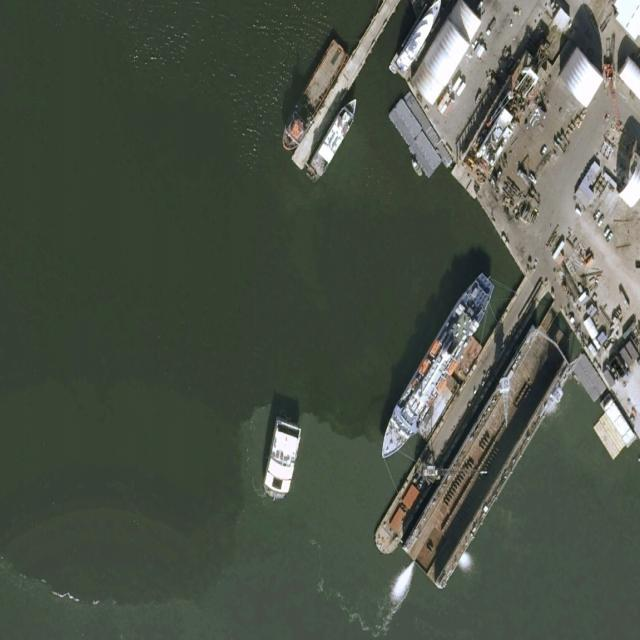Other Ship: (371, 265, 500, 472), (277, 39, 349, 154), (305, 93, 361, 187)
